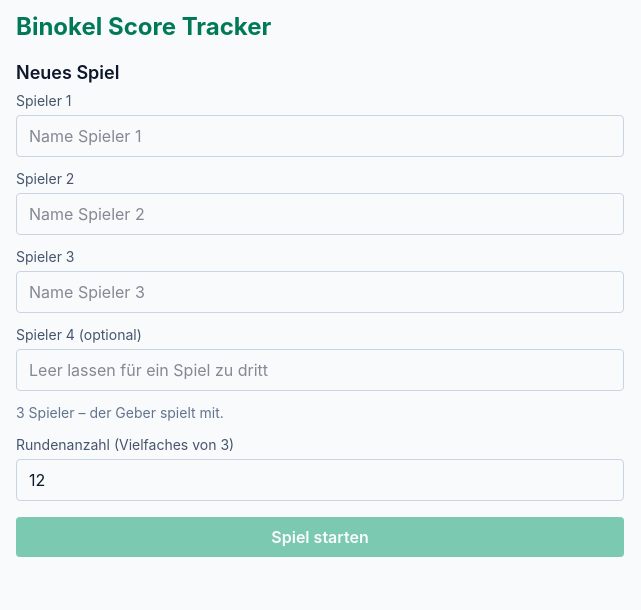
Test: StartView › zeigt die Server-Fehlermeldung an und navigiert nicht
The image size is (641, 610).
Step 1. Type "Anna" into the field labelled "Spieler 1" → (320, 136), box [16, 115, 624, 157]
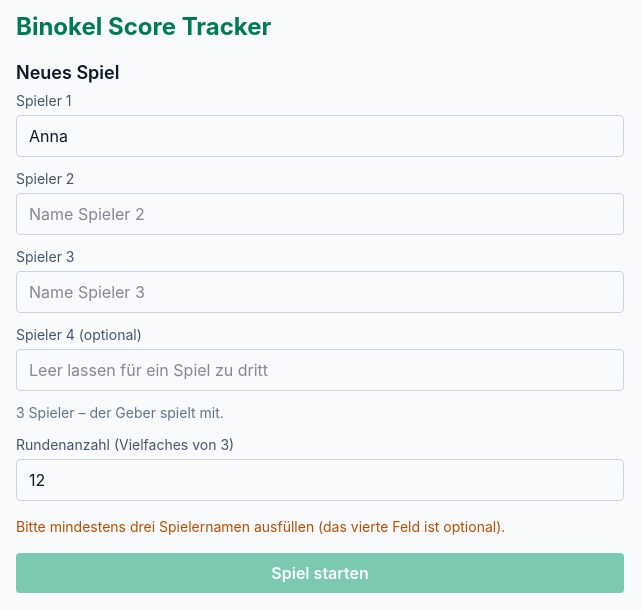
Step 2. Type "Bert" into the field labelled "Spieler 2" → (320, 214), box [16, 193, 624, 235]
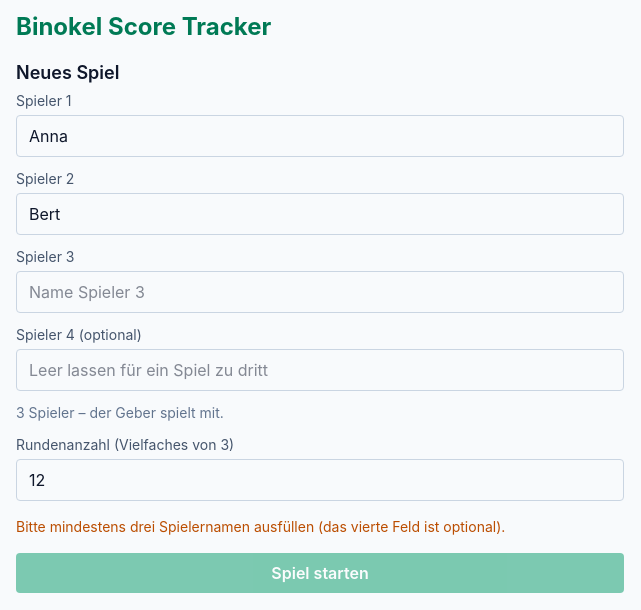
Step 3. Type "Cara" into the field with test id "spieler-2" → (320, 292), box [16, 271, 624, 313]
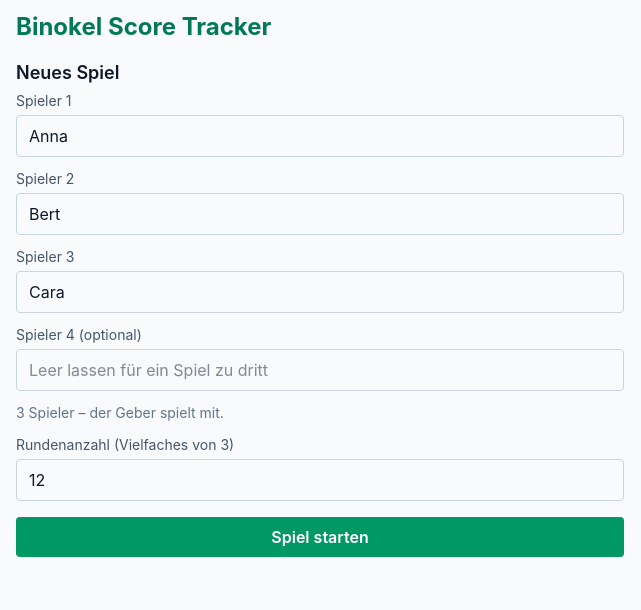
Step 4. Type "Dirk" into the field with test id "spieler-3" → (320, 370), box [16, 349, 624, 391]
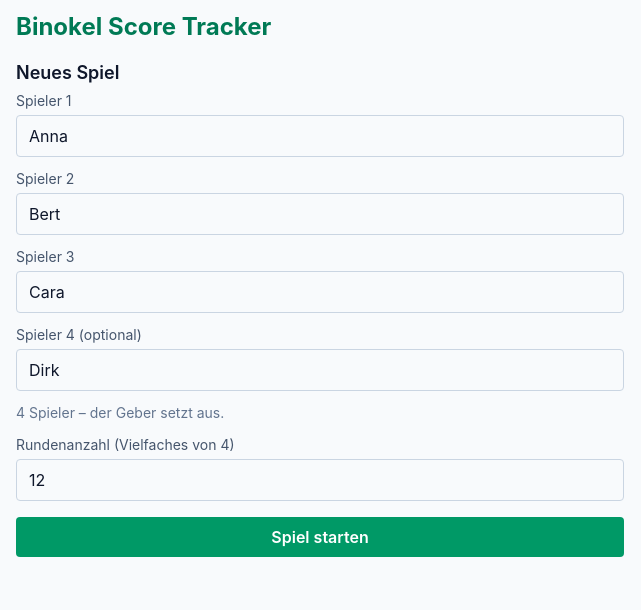
Step 5. Replace the text in the number field with test id "rundenanzahl" with "8" → (320, 480), box [16, 459, 624, 501]
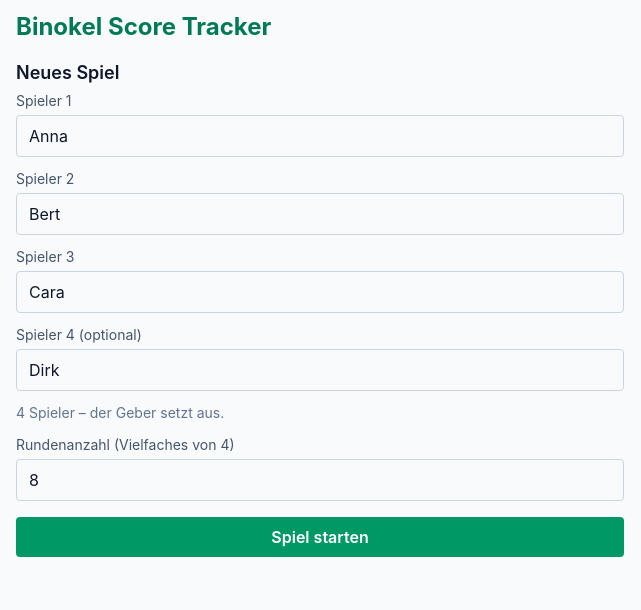
Step 6. Submit the form
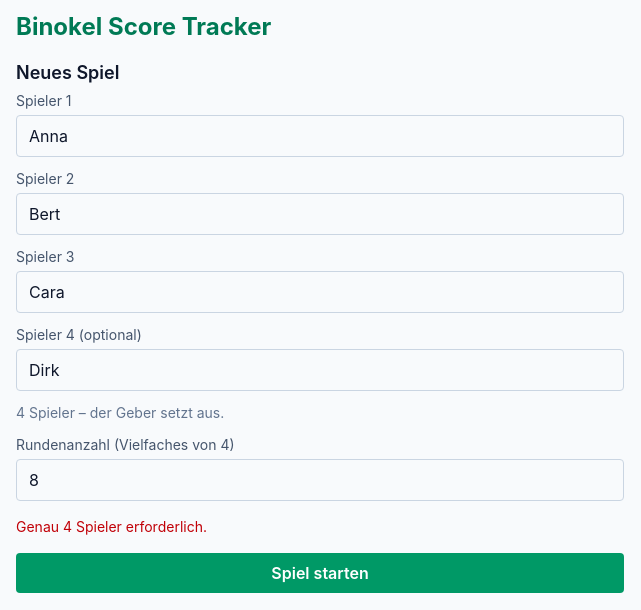
Result: the message with test id "server-fehler" reads "Genau 4 Spieler erforderlich." at [16, 518, 207, 535]
